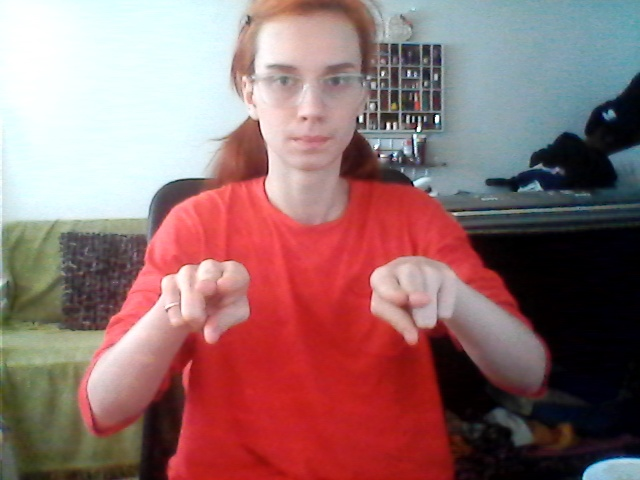brat: (160, 237, 462, 372)
